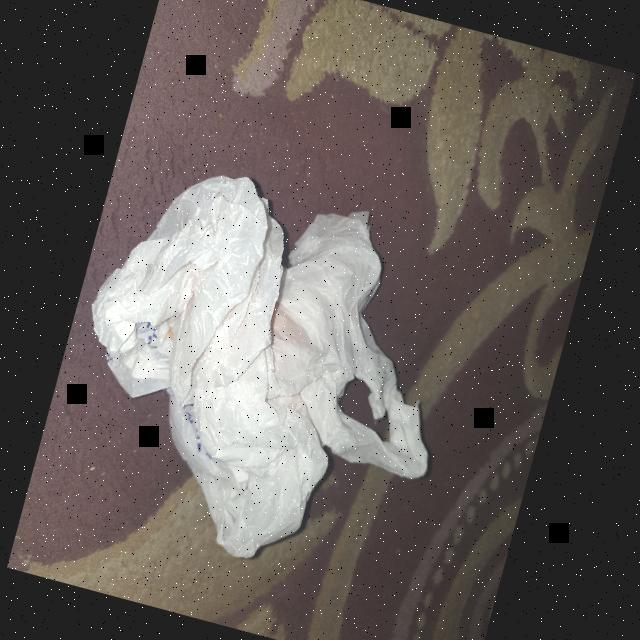plastic_bag: (26, 138, 503, 612)
